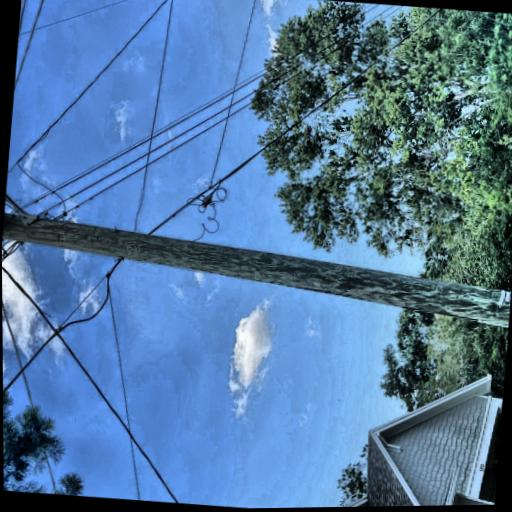pole: (11, 0, 182, 502)
street light: (130, 26, 266, 151)
transformer: (121, 2, 172, 85)
